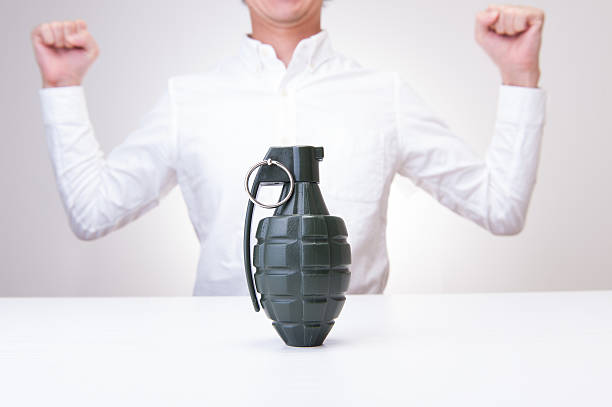e1: (241, 144, 352, 348)
